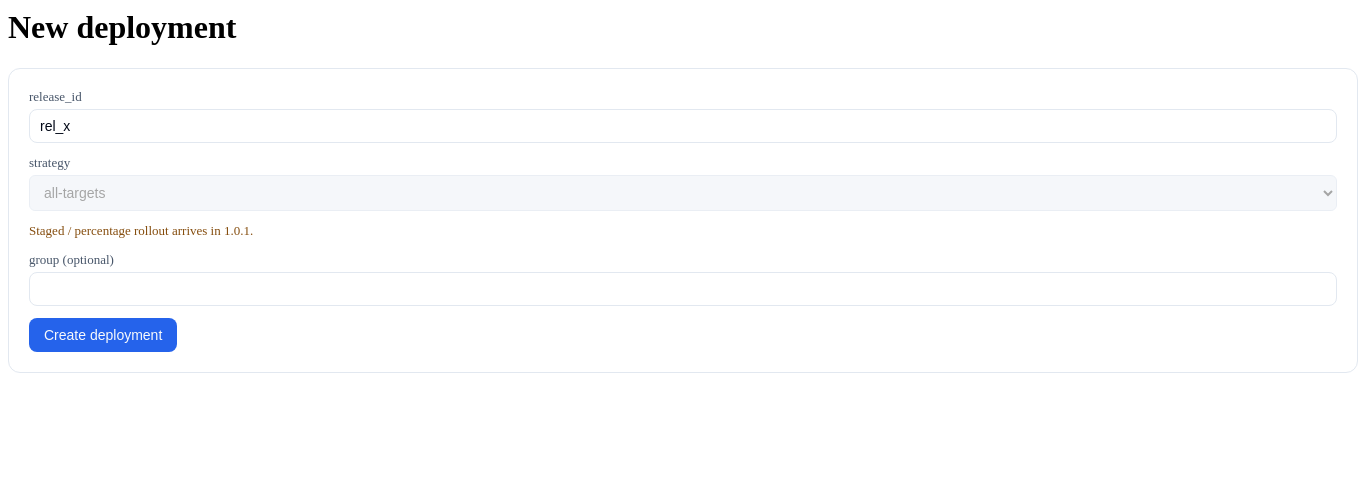
Test: DeploymentCreateScreen › surfaces a create error via the error panel and stays on the form
Click the button "Create deployment".
click(103, 335)  # box top-left (29, 318), bottom-right (177, 352)
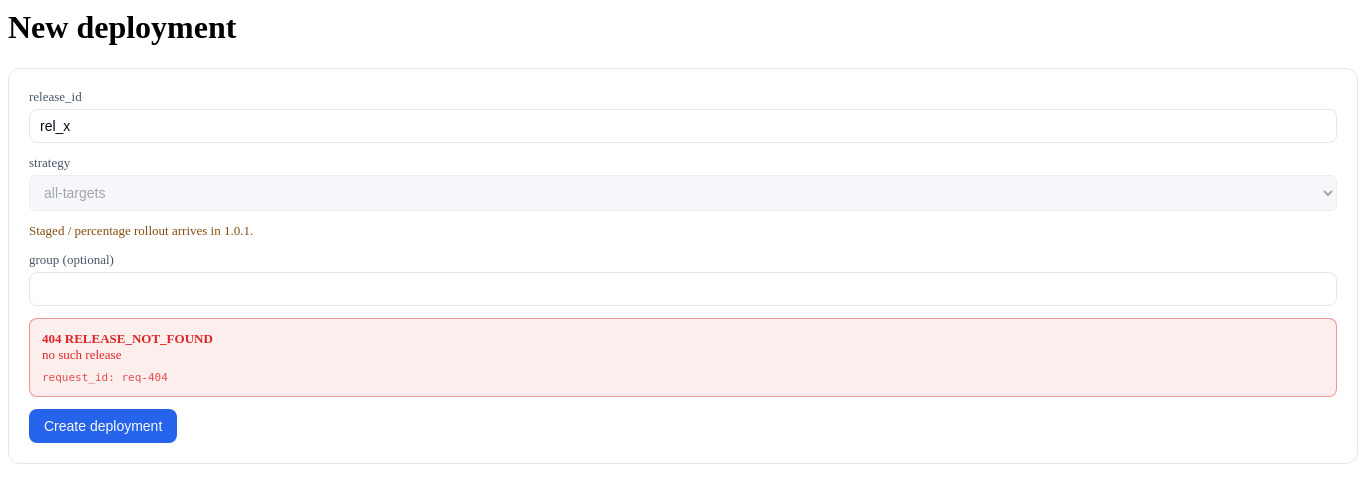
Now the message shows "404 RELEASE_NOT_FOUND", box top-left (29, 318), bottom-right (1337, 397)
